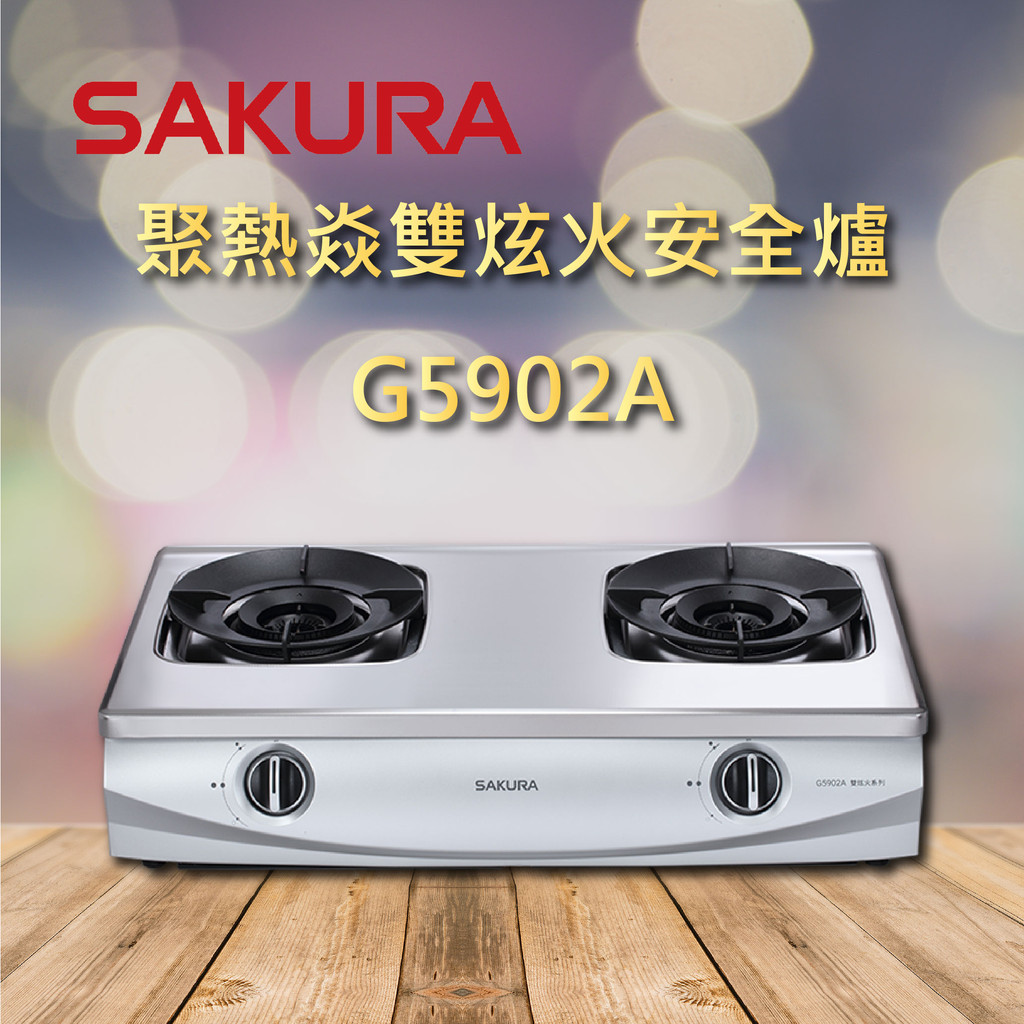gasoven: (92, 538, 936, 885)
